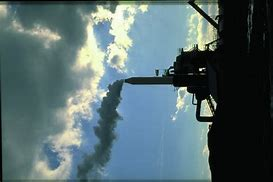smoke: (75, 77, 125, 182)
